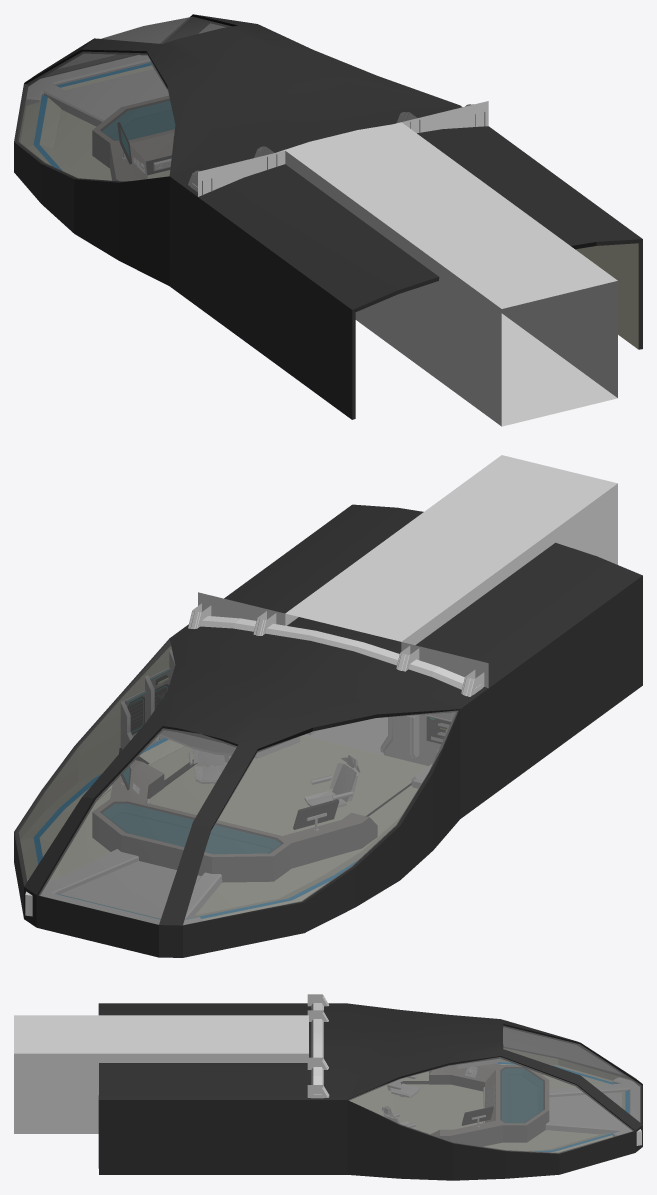
File: Ship_Interior_Colored.fbx
3 renders of one model, top to bottom at view 1: azimuth 30°, elevation 25°; view 2: azimuth 150°, elevation 25°; view 3: azimuth 270°, elevation 25°, orthographic. The views are drawn at different scales.
Parts seen in each view (by area): view 1: polySurface17, pCube20, pasted__polySurface51, group9_pCube23, pPlane1, pasted__polySurface50; view 2: polySurface17, pCube20, pasted__polySurface51, pasted__polySurface50, pasted__polySurface52, pPlane1, group13_pCylinder1, group9_pCube23, pCube23, pCube109, group79, pCube31 (+1 smaller); view 3: polySurface17, pCube20, pasted__polySurface52, pasted__polySurface50, group9_pCube23, pasted__polySurface51, pPlane1, group13_pCylinder1, pCube155.
Boxes of the visible parts, box(x1,y1,x2,y2) form: polySurface17: box(14, 14, 642, 419); pCube20: box(198, 101, 617, 426); pasted__polySurface51: box(17, 51, 175, 181); group9_pCube23: box(27, 55, 150, 126); pPlane1: box(66, 69, 168, 113); pasted__polySurface50: box(53, 16, 231, 71); polySurface17: box(14, 504, 642, 957); pCube20: box(198, 455, 617, 765); pasted__polySurface51: box(183, 710, 458, 925); pasted__polySurface50: box(38, 728, 236, 924); pasted__polySurface52: box(15, 640, 175, 884); pPlane1: box(62, 861, 200, 917); group13_pCylinder1: box(200, 616, 482, 694); group9_pCube23: box(27, 849, 221, 924); pCube23: box(25, 853, 138, 916); pCube109: box(159, 730, 299, 757); group79: box(125, 668, 170, 745); pCube31: box(396, 645, 419, 759); polySurface17: box(98, 1003, 642, 1180); pCube20: box(14, 1015, 308, 1133); pasted__polySurface52: box(348, 1057, 634, 1153); pasted__polySurface50: box(502, 1025, 641, 1122); group9_pCube23: box(546, 1077, 639, 1136); pasted__polySurface51: box(503, 1028, 623, 1075); pPlane1: box(549, 1092, 621, 1123); group13_pCylinder1: box(311, 1003, 323, 1098); pCube155: box(462, 1106, 493, 1125).
Size of the model in its own units: 16.41 by 6.5 by 40.27.
